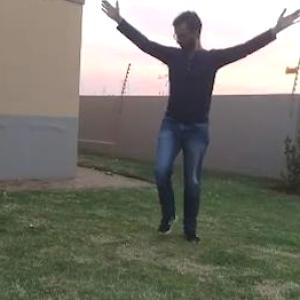takeoff: (98, 0, 299, 250)
